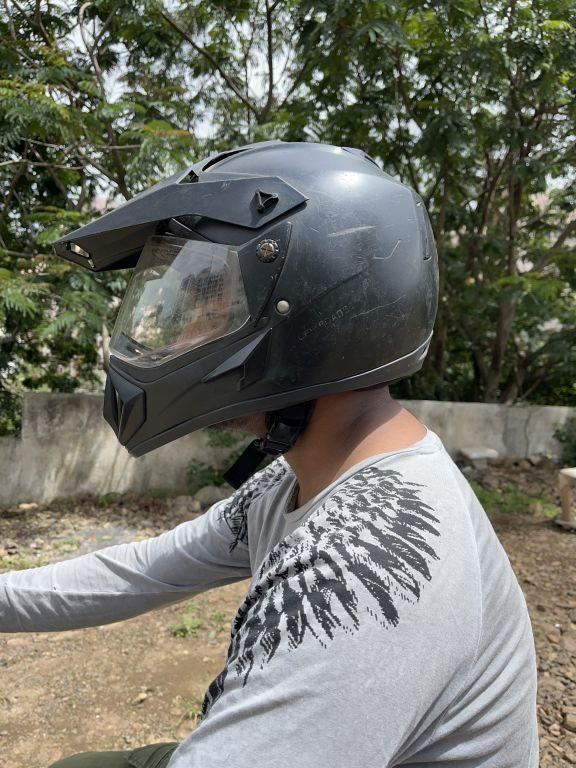helmet: (47, 124, 448, 465)
